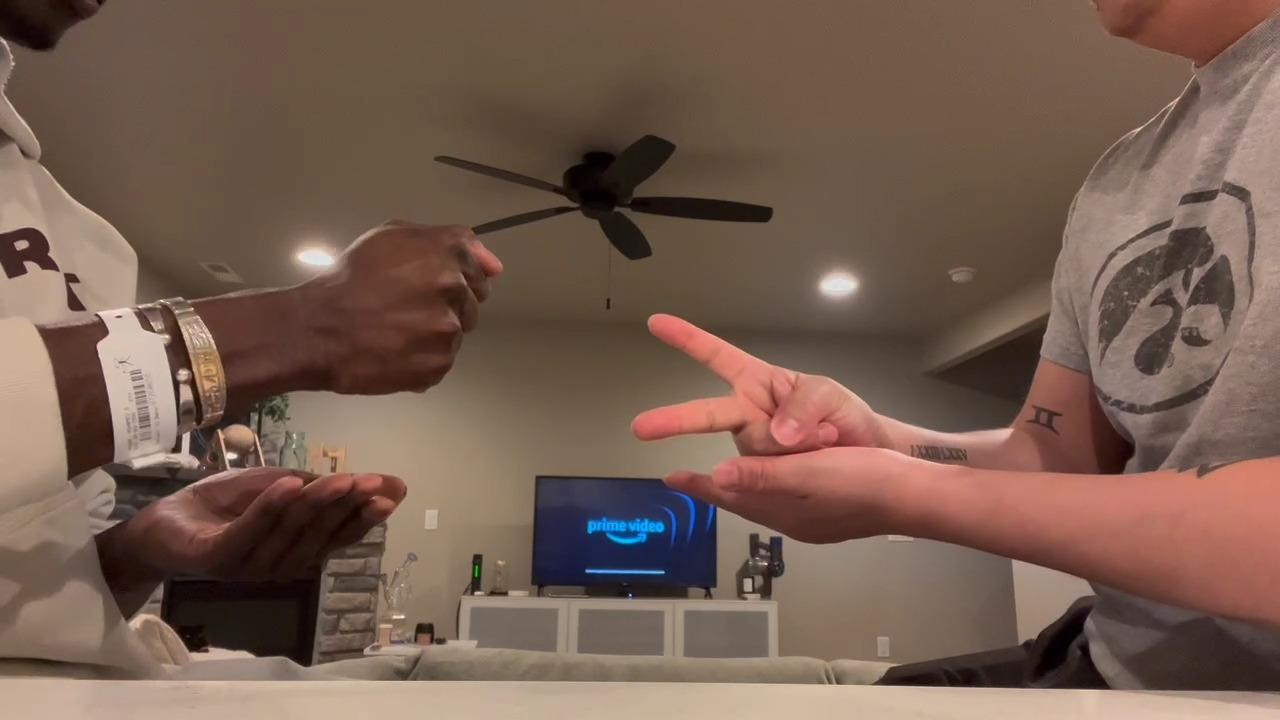Rock: (315, 221, 512, 400)
Scissors: (628, 311, 889, 458)
